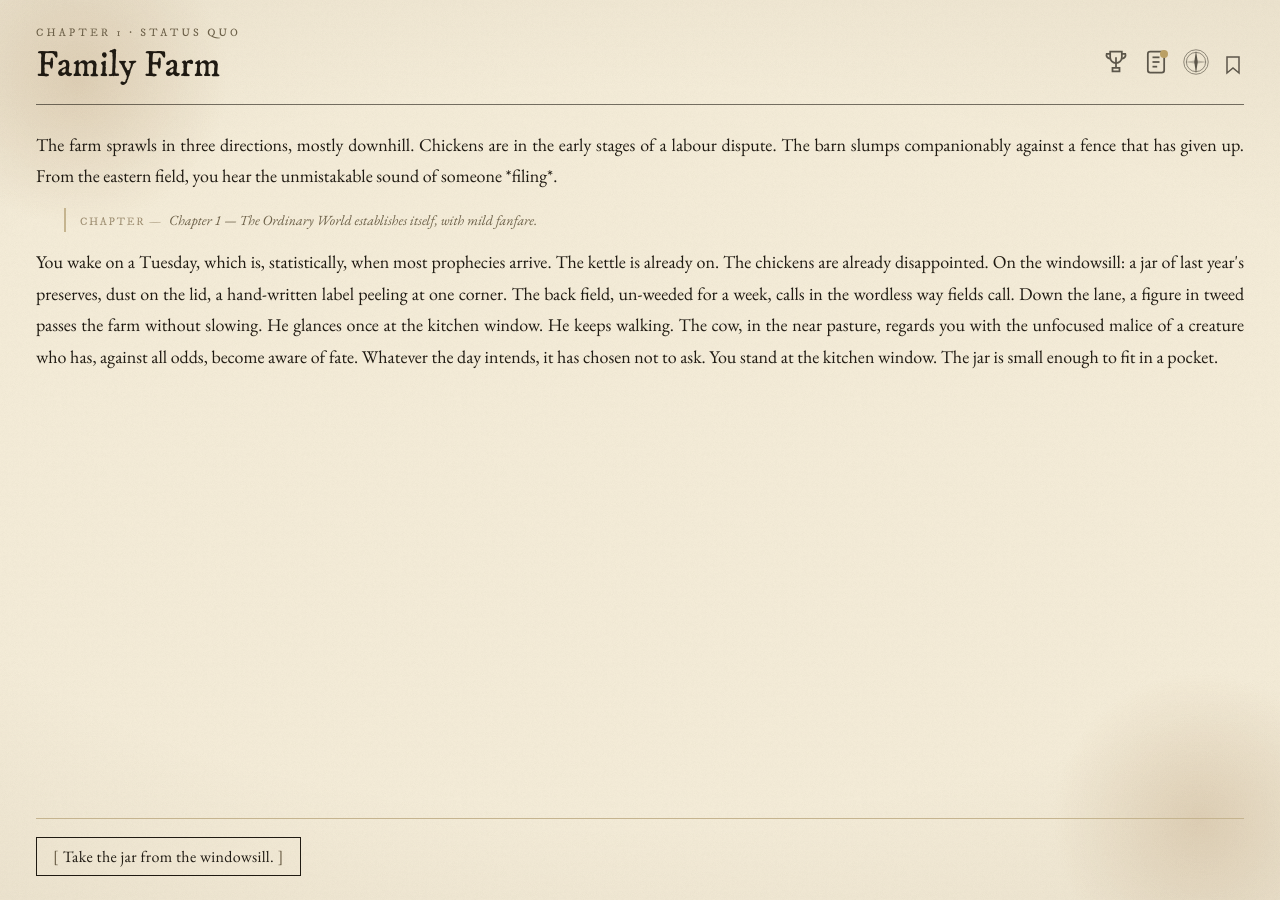
WorldPanel quest log chrome › opens the quest log modal when the scroll button is clicked
What coordinates should you click on to do the following:
click the button named "view quest log"
I would click on:
 (1156, 64)
Its box is [1142,48,1170,80].
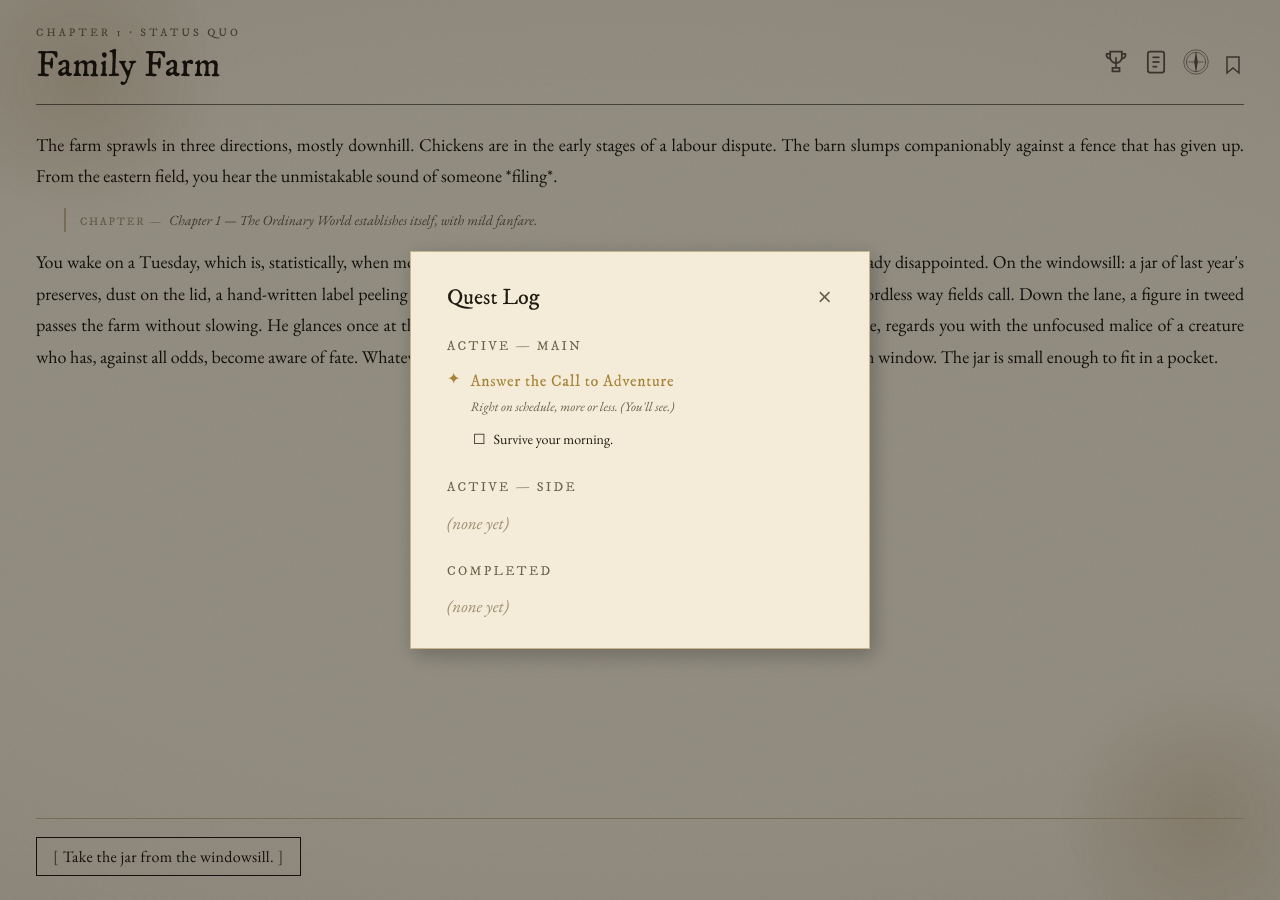
expect the dialog is shown: met, box [410,251,870,649]
